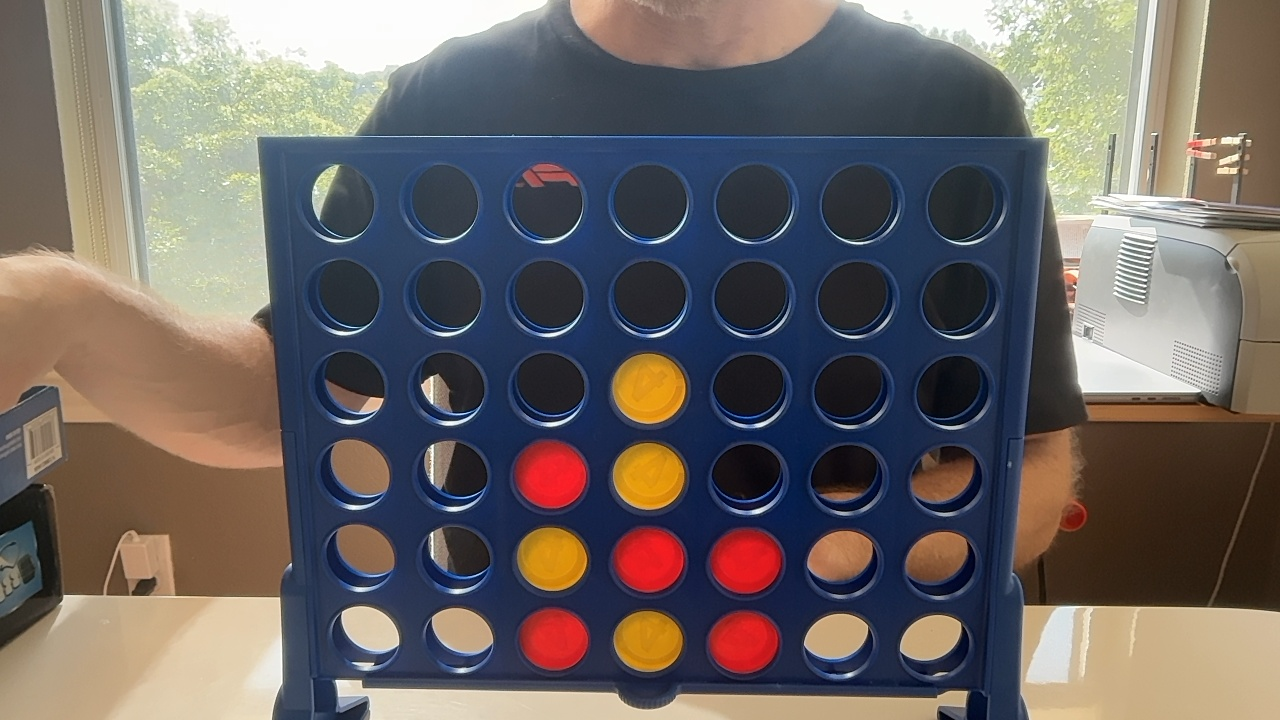red piece: (514, 440, 587, 509), (612, 527, 685, 592), (710, 529, 782, 594), (708, 611, 779, 674), (518, 608, 588, 671)
yellow piece: (612, 353, 686, 423), (612, 442, 686, 509), (517, 527, 587, 591), (613, 610, 683, 671)
